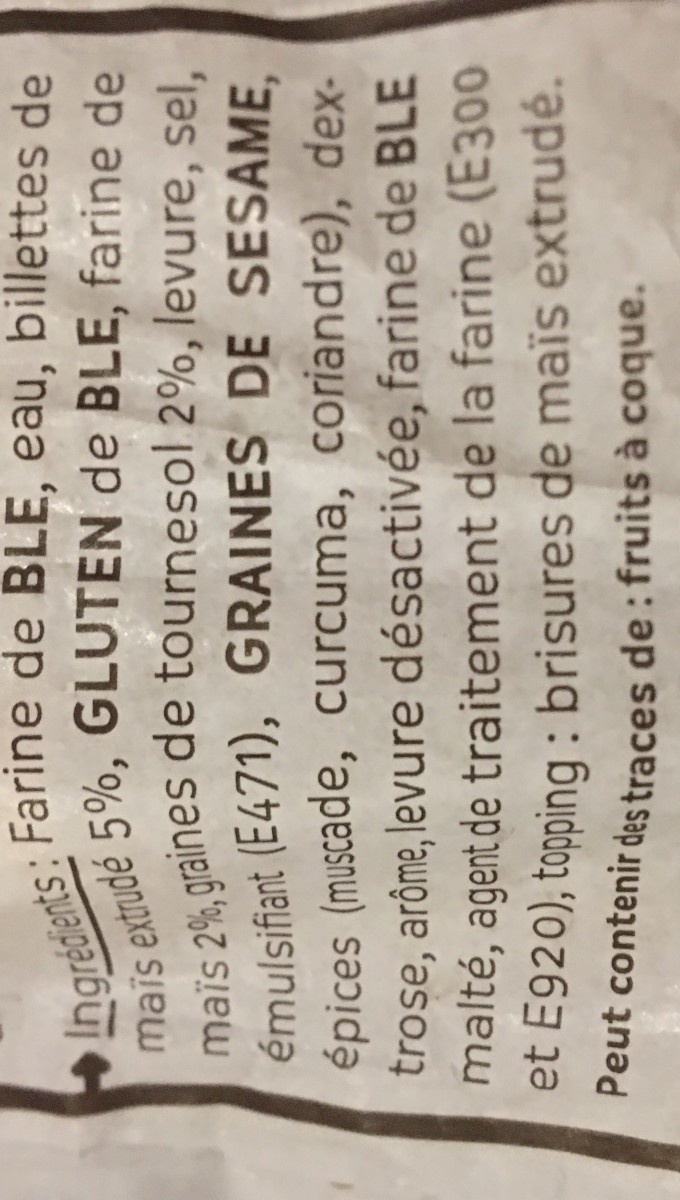ingredients: (4, 13, 605, 1124)
